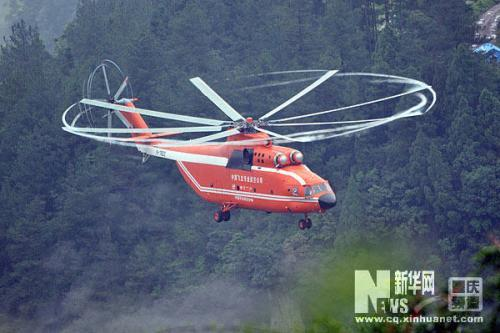airplane: (52, 52, 442, 233)
